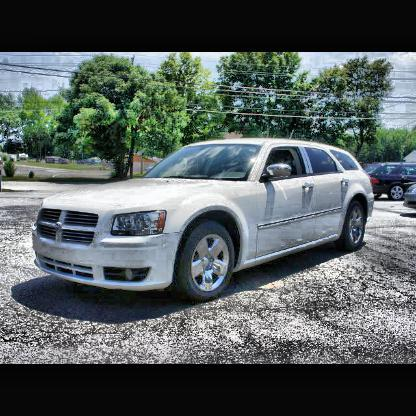Dodge Magnum Wagon 2008: (33, 137, 376, 303)
